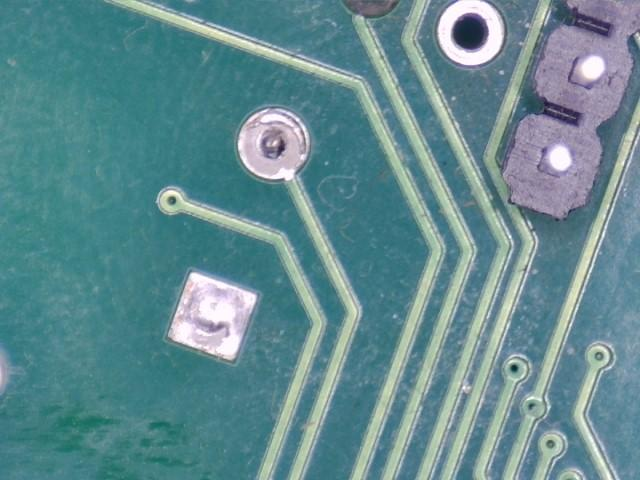pcb_defect: (237, 108, 310, 180)
